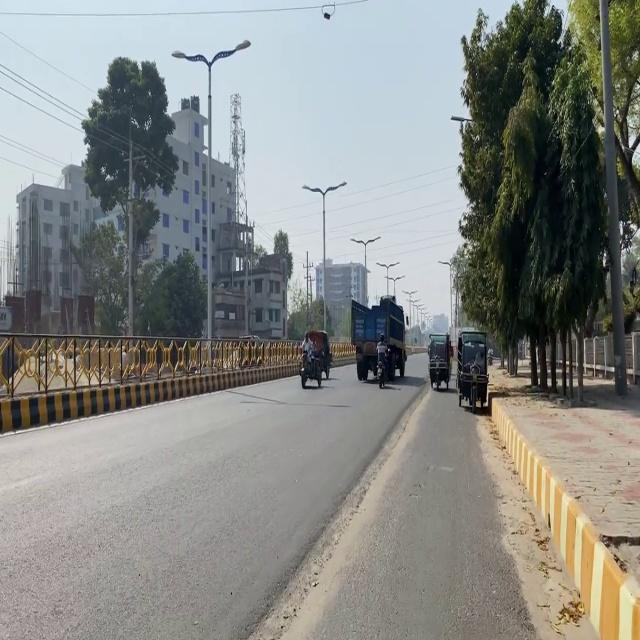Construction-barrier: (237, 429, 421, 640), (489, 393, 640, 639)
Fallen-tree: (375, 342, 394, 388)
Garbage-bin: (375, 334, 388, 373), (300, 332, 313, 368)
Light-pole: (598, 0, 629, 396)
Pole: (0, 320, 240, 428)
Pothole: (290, 358, 640, 640)
Traffic-cone: (349, 295, 407, 384), (456, 330, 489, 412), (426, 333, 451, 390)
